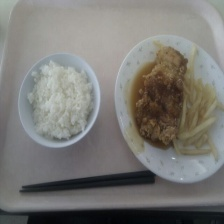rice: (23, 57, 98, 142)
